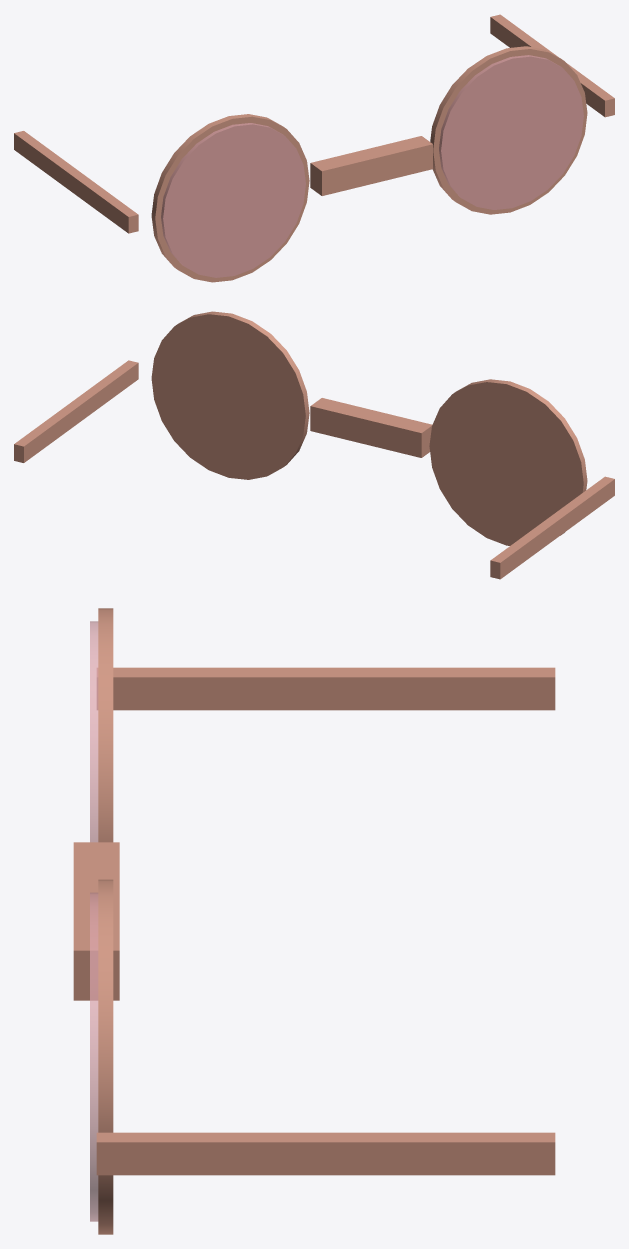
File: rose-gold.glb
3 renders of one model, top to bottom at view 1: azimuth 30°, elevation 25°; view 2: azimuth 150°, elevation 25°; view 3: azimuth 270°, elevation 25°, orthographic. The views are drawn at different scales.
Visible parts, largest first — view 1: rose-gold; view 2: rose-gold; view 3: rose-gold.
Part boxes in pixels (left/top/right/bottom): rose-gold: left=14, top=14, right=614, bottom=282; rose-gold: left=14, top=311, right=614, bottom=579; rose-gold: left=73, top=608, right=555, bottom=1234.
Bounding box in the file's own units: 0.245 × 0.0778 × 0.105.
